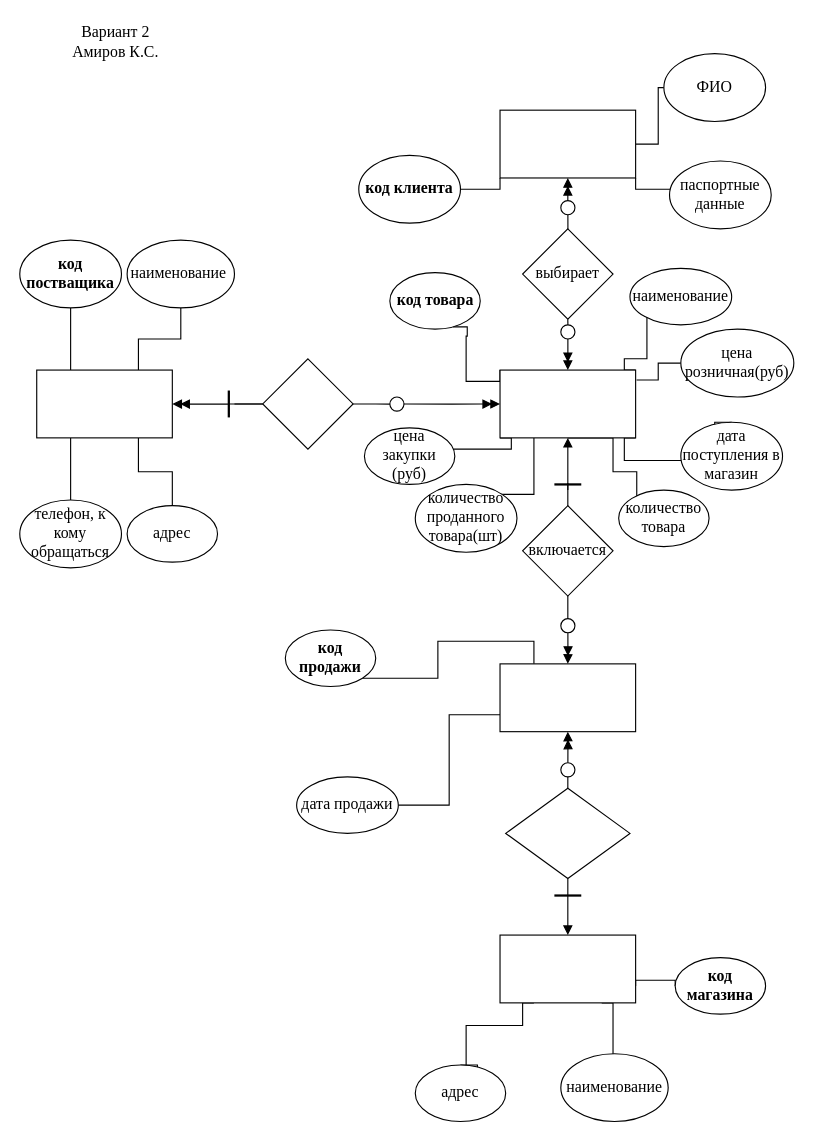
Image size: 814x1141. Some labels were removed from this diagram. Each missing label, with the centre of its shape:
"клиент" goes at (567,143).
"магазгин" goes at (567,968).
"осуществляется" goes at (567,833).
"поставляет" goes at (307,403).
"поставщик" goes at (104,403).
"продажа" goes at (567,697).
"товар" goes at (567,403).
